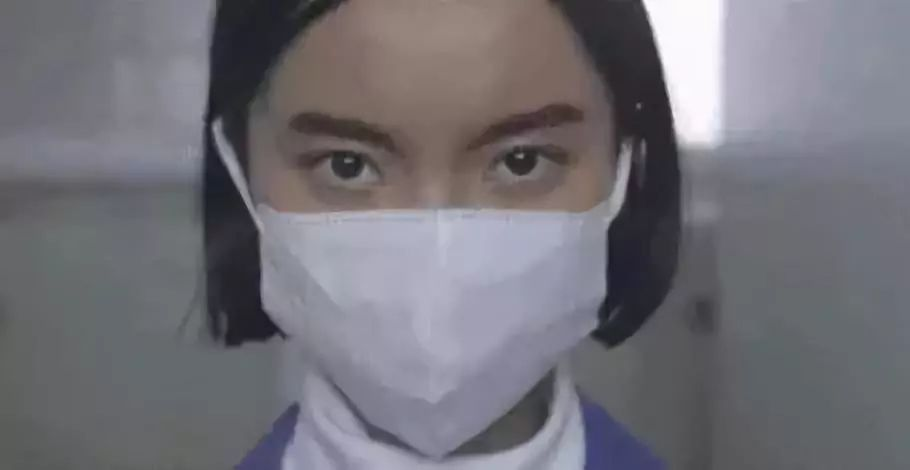mask: (199, 107, 627, 446)
